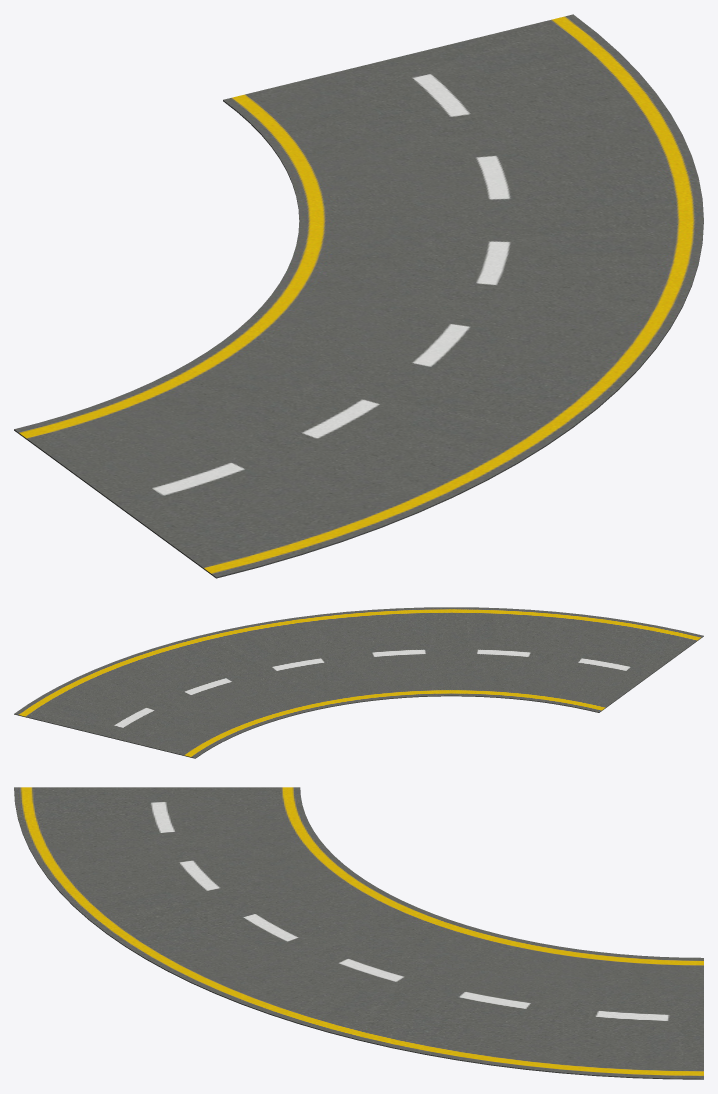
File: turn_a1.fbx
3 renders of one model, top to bottom at view 1: azimuth 30°, elevation 25°; view 2: azimuth 150°, elevation 25°; view 3: azimuth 270°, elevation 25°, orthographic. The views are drawn at different scales.
Visible parts, largest first — view 1: Turn_a1; view 2: Turn_a1; view 3: Turn_a1.
Part boxes in pixels (x1,y1,x2,y2): Turn_a1: [14, 14, 703, 578]; Turn_a1: [14, 607, 703, 758]; Turn_a1: [14, 787, 703, 1079].
Bounding box in the file's own units: 1446 × 2 × 1446.
Materials: 1 (1 with a texture image).
